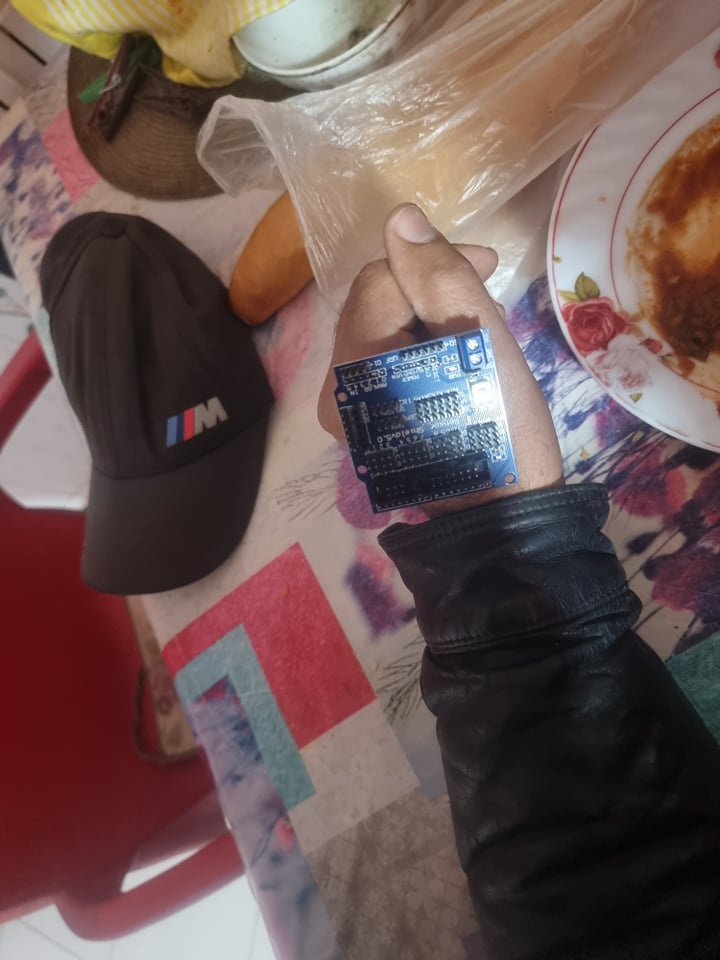5V EXPANSION: (329, 322, 522, 515)
